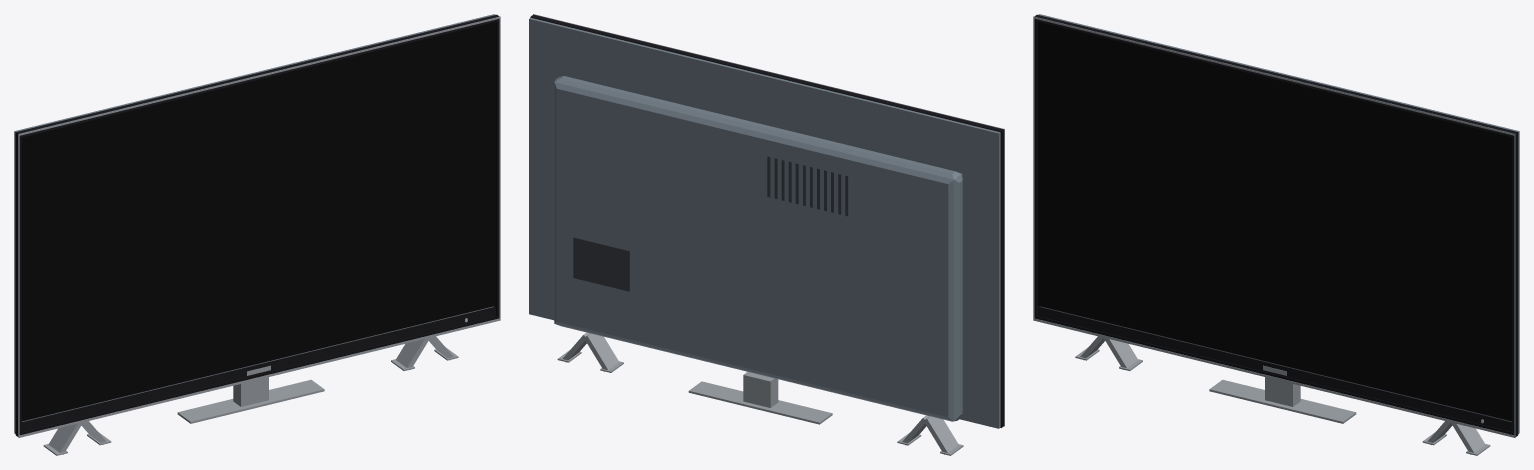
File: tv_variantes.glb
3 views of the same model, side by side, from view 1: azimuth 30°, elevation 25°; view 2: azimuth 150°, elevation 25°; view 3: azimuth 330°, elevation 25° (orthographic). The views are drawn at different scales.
Visible parts, largest first — view 1: carcasa_tv_dato@pie_central, carcasa_tv_dato@pie_laterales; view 2: carcasa_tv_dato@pie_central, carcasa_tv_dato@pie_laterales; view 3: carcasa_tv_dato@pie_laterales, carcasa_tv_dato@pie_central.
Boxes of the visible parts, bbox=[...] form: carcasa_tv_dato@pie_central: bbox=[14, 17, 500, 437]; carcasa_tv_dato@pie_laterales: bbox=[14, 14, 500, 455]; carcasa_tv_dato@pie_central: bbox=[529, 19, 1004, 428]; carcasa_tv_dato@pie_laterales: bbox=[529, 14, 1004, 455]; carcasa_tv_dato@pie_laterales: bbox=[1033, 14, 1519, 455]; carcasa_tv_dato@pie_central: bbox=[1033, 17, 1519, 437].
Bounding box in the file's own units: 100 × 66.27 × 6.12.
